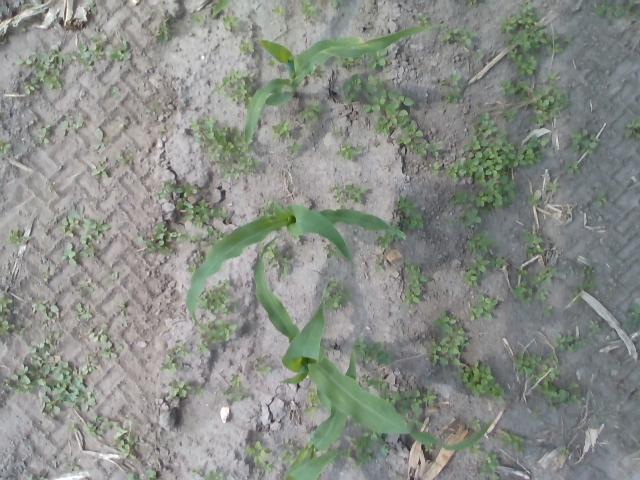Maize: (253, 234, 491, 450), (188, 202, 408, 332), (243, 24, 441, 149), (277, 440, 350, 480)
Weeds: (3, 331, 95, 414), (444, 113, 518, 181), (188, 115, 261, 180), (499, 1, 548, 77), (428, 311, 470, 368), (454, 360, 506, 404), (31, 44, 75, 91), (378, 388, 424, 428), (528, 84, 570, 127), (342, 73, 386, 114), (373, 90, 413, 134), (212, 70, 256, 109), (174, 198, 228, 228), (530, 364, 570, 404), (395, 124, 442, 158), (195, 278, 239, 314), (195, 318, 238, 354), (350, 429, 389, 467), (470, 180, 516, 212), (403, 256, 429, 306), (137, 222, 176, 255), (352, 338, 392, 368), (393, 194, 425, 230), (76, 36, 106, 72), (320, 280, 354, 311), (111, 420, 138, 458), (330, 182, 366, 210), (260, 241, 290, 274), (592, 0, 640, 20), (518, 134, 548, 166), (245, 442, 274, 475), (80, 219, 111, 249), (461, 257, 490, 287), (467, 294, 498, 322), (220, 372, 247, 404), (568, 128, 600, 154), (499, 77, 531, 102), (0, 291, 17, 338), (512, 350, 542, 376), (552, 332, 591, 352), (464, 230, 496, 253), (521, 226, 544, 258), (438, 26, 474, 46), (81, 413, 111, 437), (476, 449, 499, 480), (377, 220, 402, 248), (156, 180, 197, 197), (510, 280, 535, 307), (441, 72, 463, 102), (278, 440, 302, 467), (31, 297, 59, 320), (545, 34, 577, 54), (175, 230, 209, 248), (58, 210, 80, 237), (500, 432, 524, 456), (570, 281, 594, 305), (303, 387, 322, 416), (157, 353, 184, 373), (155, 19, 178, 42), (366, 47, 390, 69), (167, 379, 192, 400), (97, 340, 123, 360), (299, 0, 322, 22), (359, 373, 387, 391), (248, 354, 272, 375), (108, 41, 131, 62), (531, 266, 555, 286), (206, 226, 230, 246), (624, 302, 640, 332), (298, 103, 323, 122), (336, 142, 362, 160), (460, 209, 483, 228), (60, 242, 78, 266), (335, 54, 364, 68), (272, 118, 290, 139), (71, 302, 92, 320), (623, 117, 640, 139), (187, 255, 206, 274), (222, 14, 242, 32), (322, 240, 342, 258), (87, 326, 107, 343), (170, 339, 189, 356), (59, 118, 82, 132), (90, 164, 110, 180), (447, 190, 468, 205), (304, 64, 326, 78), (36, 124, 51, 144), (92, 128, 105, 151), (594, 190, 610, 208), (260, 200, 278, 216), (22, 80, 40, 96), (237, 38, 255, 54), (500, 108, 518, 123), (423, 388, 438, 406), (286, 140, 302, 156), (526, 192, 542, 208), (490, 257, 510, 269), (202, 468, 222, 480), (79, 278, 94, 294), (117, 152, 136, 164), (145, 468, 164, 480), (189, 12, 204, 26), (145, 100, 158, 116), (14, 57, 32, 68), (565, 160, 579, 174), (540, 304, 554, 318), (8, 230, 22, 244), (567, 393, 582, 406), (580, 264, 594, 277), (86, 0, 98, 15), (109, 85, 121, 100), (42, 266, 52, 283), (588, 320, 600, 334), (533, 288, 548, 299), (0, 140, 10, 156), (64, 463, 80, 473), (193, 384, 206, 396), (544, 352, 557, 364), (469, 442, 481, 454), (416, 14, 429, 25), (430, 162, 440, 176), (546, 72, 560, 82), (546, 182, 560, 192), (126, 470, 140, 480), (374, 258, 384, 272), (320, 343, 334, 353), (470, 418, 480, 431), (472, 50, 484, 60), (424, 441, 434, 453), (272, 4, 282, 16), (560, 444, 570, 456), (80, 251, 96, 258), (339, 449, 350, 459), (516, 267, 528, 276), (65, 422, 77, 431), (268, 58, 279, 67), (332, 0, 344, 8), (349, 419, 362, 426), (465, 0, 477, 7), (532, 408, 542, 416), (568, 381, 578, 389), (21, 3, 34, 9), (110, 272, 120, 279), (332, 126, 340, 134), (549, 404, 557, 412), (118, 299, 126, 307), (193, 467, 201, 474), (157, 126, 165, 133), (294, 235, 302, 241)
